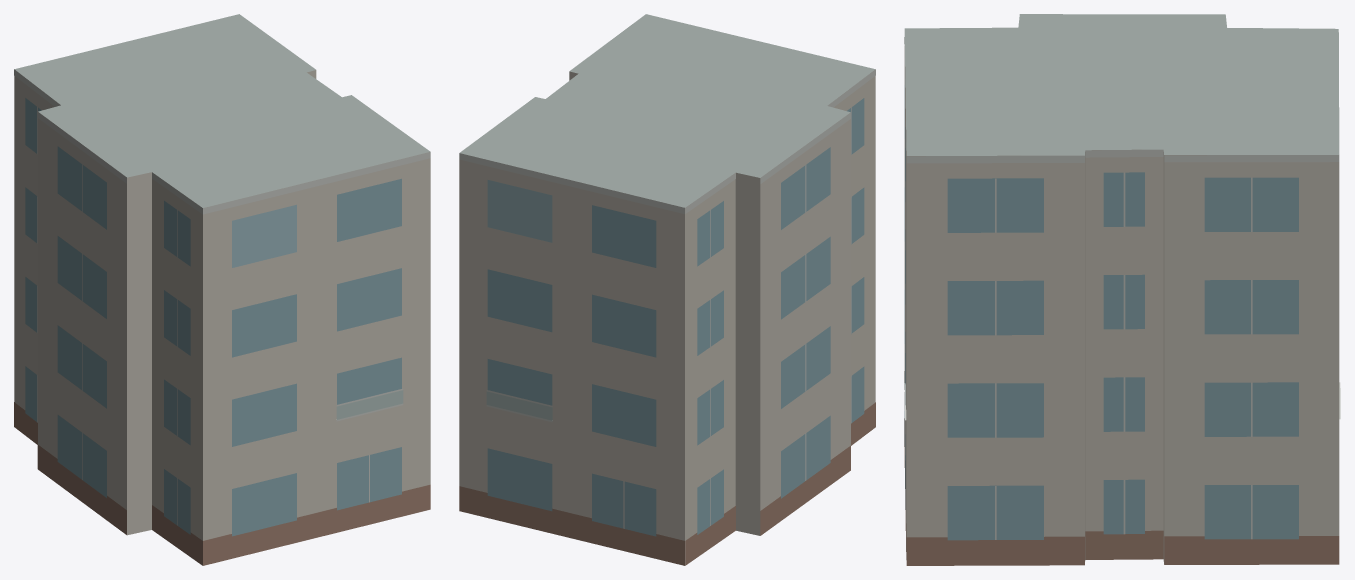
File: survey-upis-32957458.glb
3 views of the same model, side by side, from view 1: azimuth 30°, elevation 25°; view 2: azimuth 150°, elevation 25°; view 3: azimuth 270°, elevation 25° (orthographic). The views are drawn at different scales.
Parts seen in each view (by area): view 1: survey-upis-32957458.tmp; view 2: survey-upis-32957458.tmp; view 3: survey-upis-32957458.tmp.
Boxes of the visible parts, x1,y1,x2,y2 form: survey-upis-32957458.tmp: (14, 14, 430, 565); survey-upis-32957458.tmp: (459, 14, 875, 565); survey-upis-32957458.tmp: (904, 14, 1340, 565).
Size of the model in its own units: 10.12 by 13.6 by 13.12.
